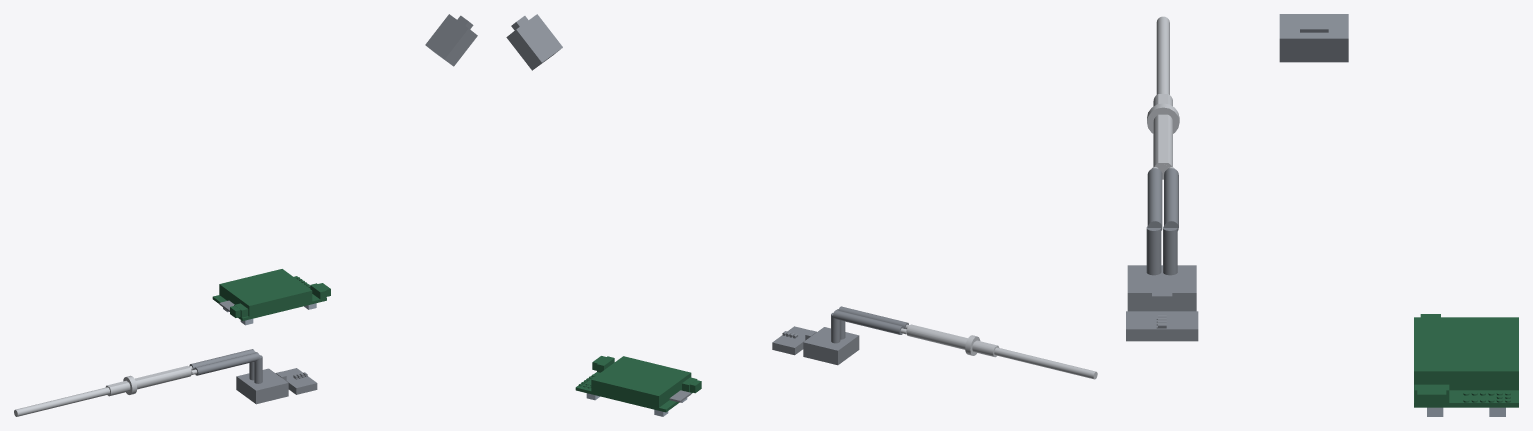
Rendered from avionics.glb.
3 views of the same model, side by side, from view 1: azimuth 30°, elevation 25°; view 2: azimuth 150°, elevation 25°; view 3: azimuth 270°, elevation 25° (orthographic). The views are drawn at different scales.
Parts seen in each view (by area): view 1: AVN-001, AVN-004, AVN-005, AVN-002, AVN-003; view 2: AVN-001, AVN-004, AVN-005, AVN-002, AVN-003; view 3: AVN-001, AVN-004, AVN-002, AVN-005, AVN-003.
Boxes of the visible parts, <box> form: AVN-001: <box>212,269,330,320</box>; AVN-004: <box>189,349,288,404</box>; AVN-005: <box>14,365,197,416</box>; AVN-002: <box>425,14,477,66</box>; AVN-003: <box>281,368,317,394</box>; AVN-001: <box>575,356,701,412</box>; AVN-004: <box>803,306,908,365</box>; AVN-005: <box>900,324,1097,379</box>; AVN-002: <box>506,14,562,70</box>; AVN-003: <box>772,326,810,355</box>; AVN-001: <box>1414,314,1518,407</box>; AVN-004: <box>1127,168,1196,311</box>; AVN-002: <box>1279,14,1348,62</box>; AVN-005: <box>1147,16,1179,179</box>; AVN-003: <box>1126,311,1198,341</box>.
Bounding box in the file's own units: 0.3065 × 0.168 × 0.1197.
